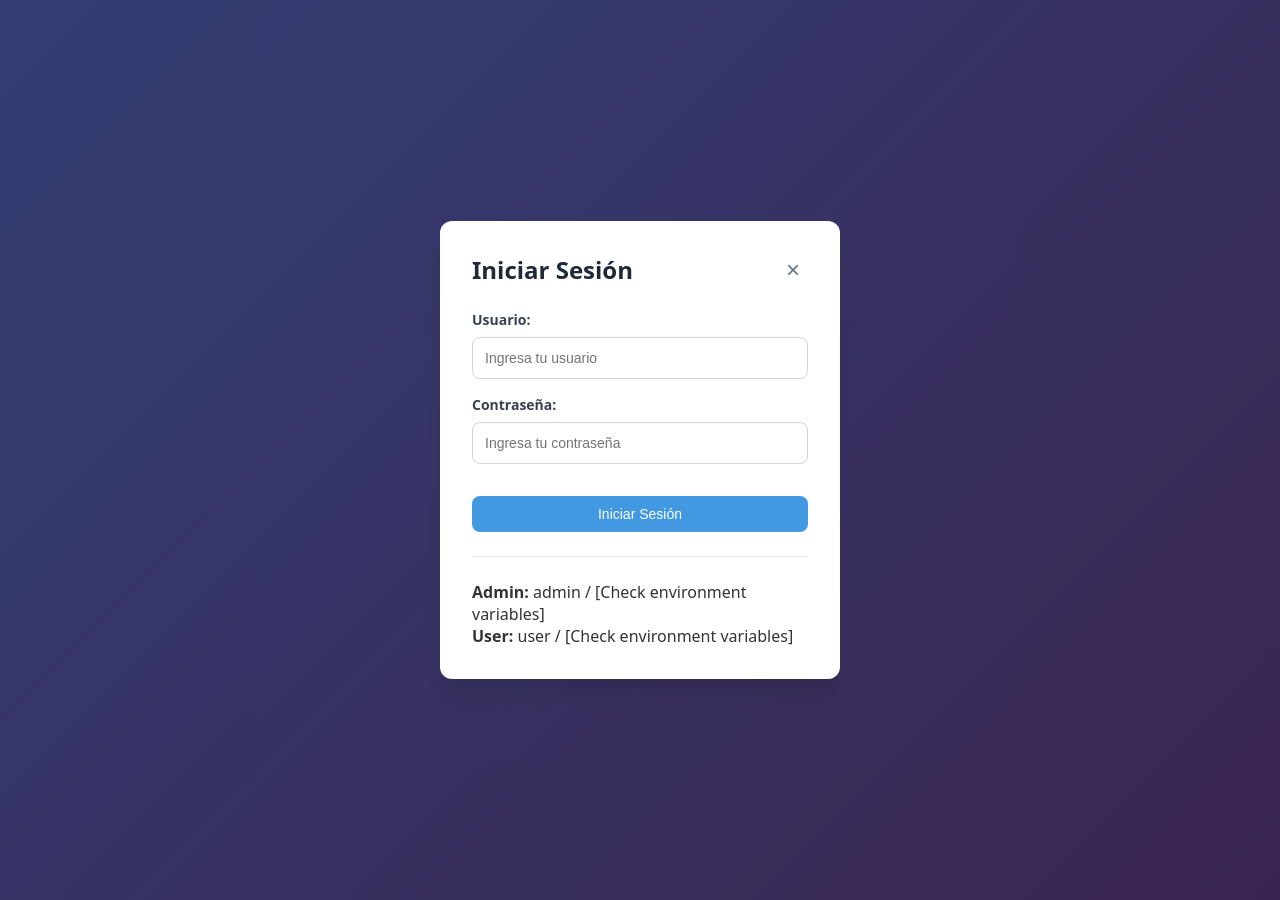
it: Login Component › handles login error
This screenshot has width=1280, height=900.
Type "wrong" into the field labelled "Usuario:".
click(640, 358); type("wrong")  # box [472,337,808,379]
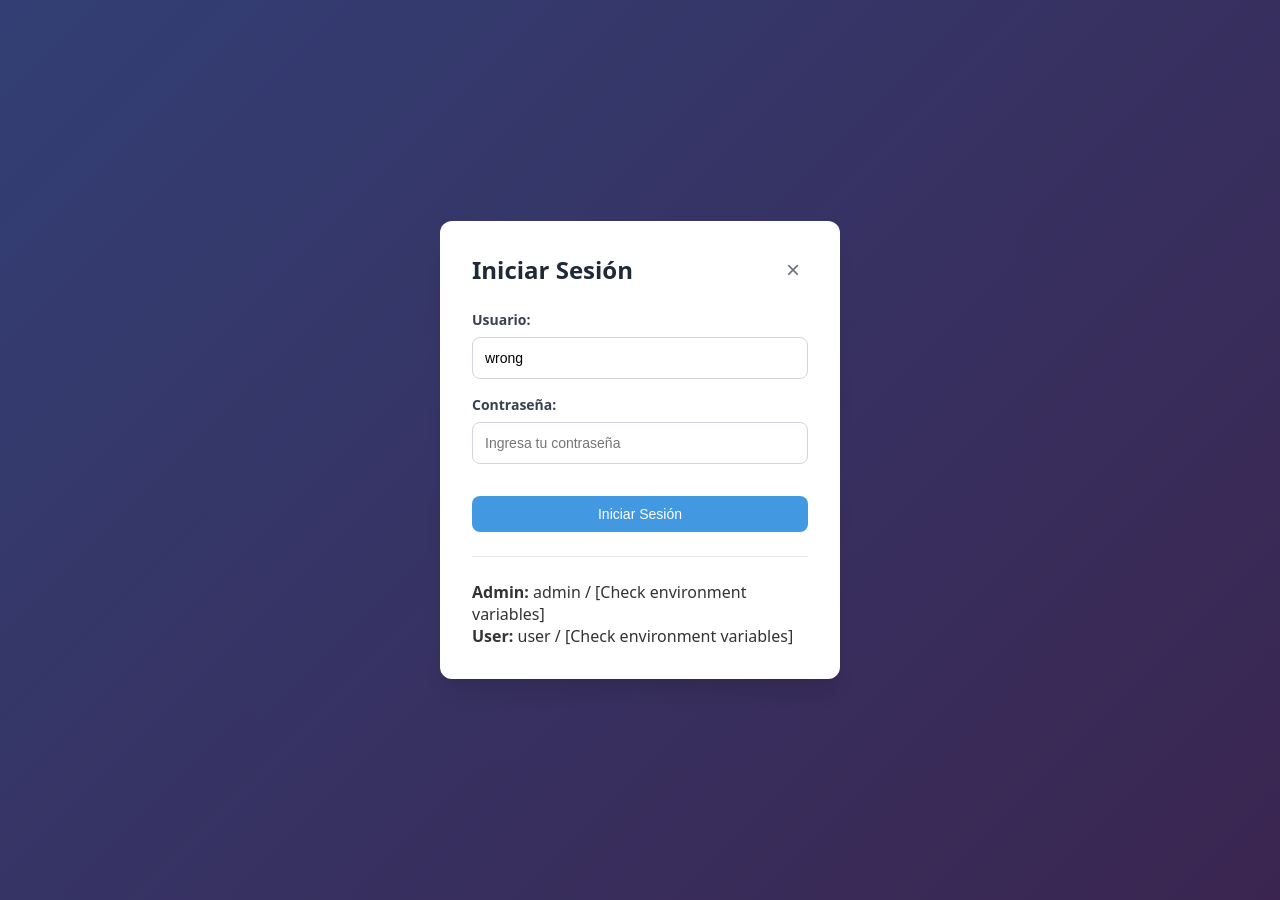
Type "wrong" into the password field labelled "Contraseña:".
click(640, 443); type("wrong")  # box [472,422,808,464]
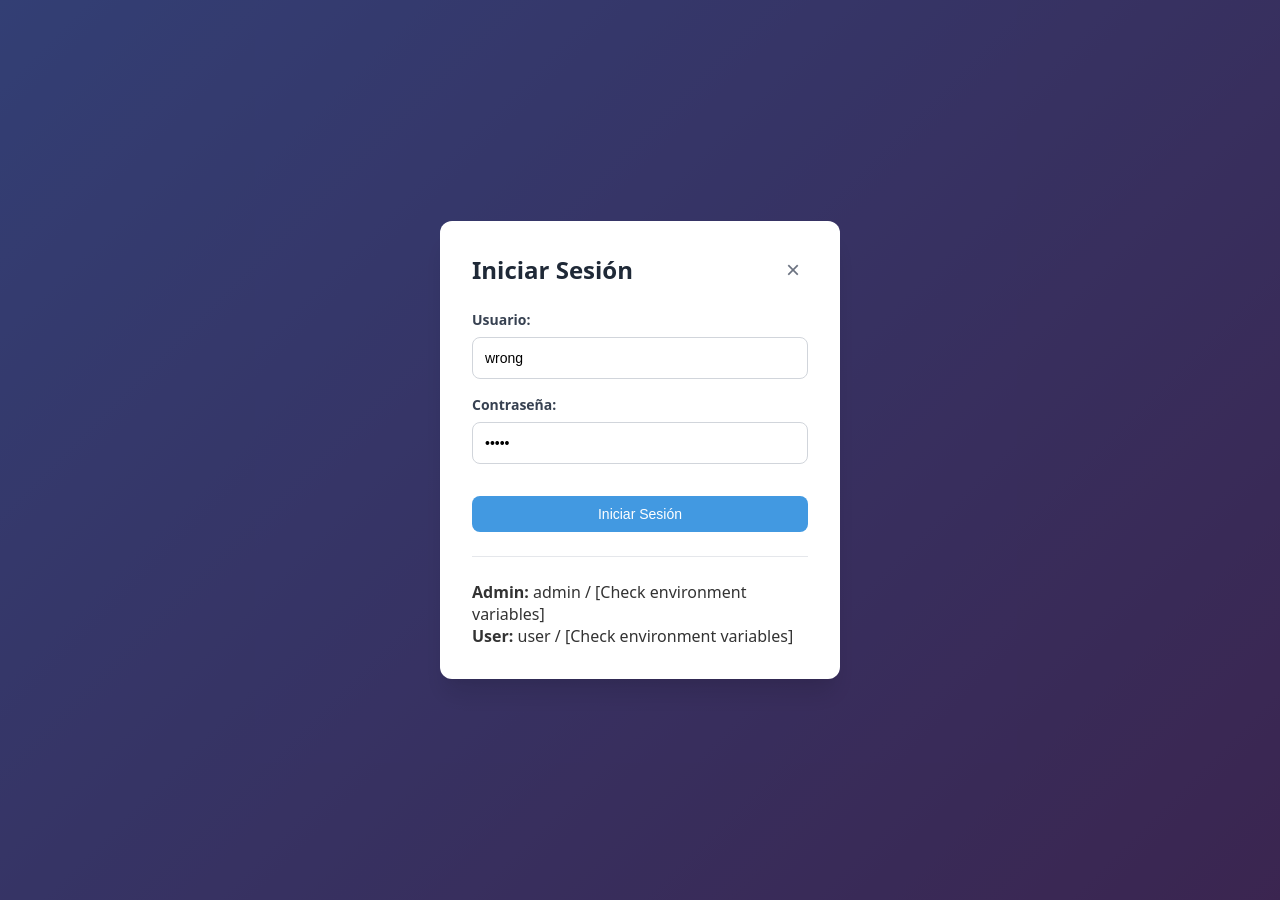
Click the button with test id "login-submit".
click(640, 514)  # box [472,496,808,532]
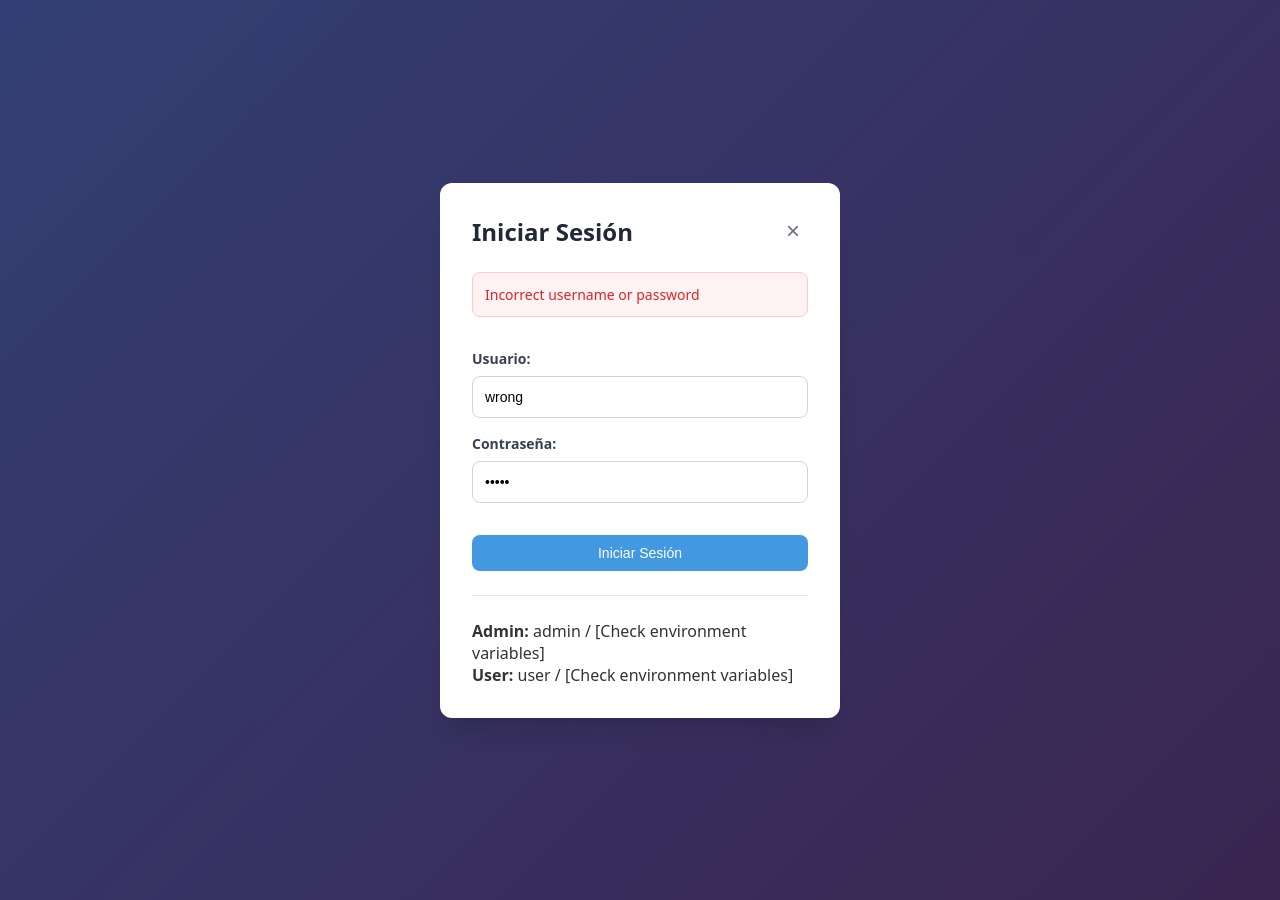
Check: the text "Incorrect username or password" is shown, box [472,272,808,316]
